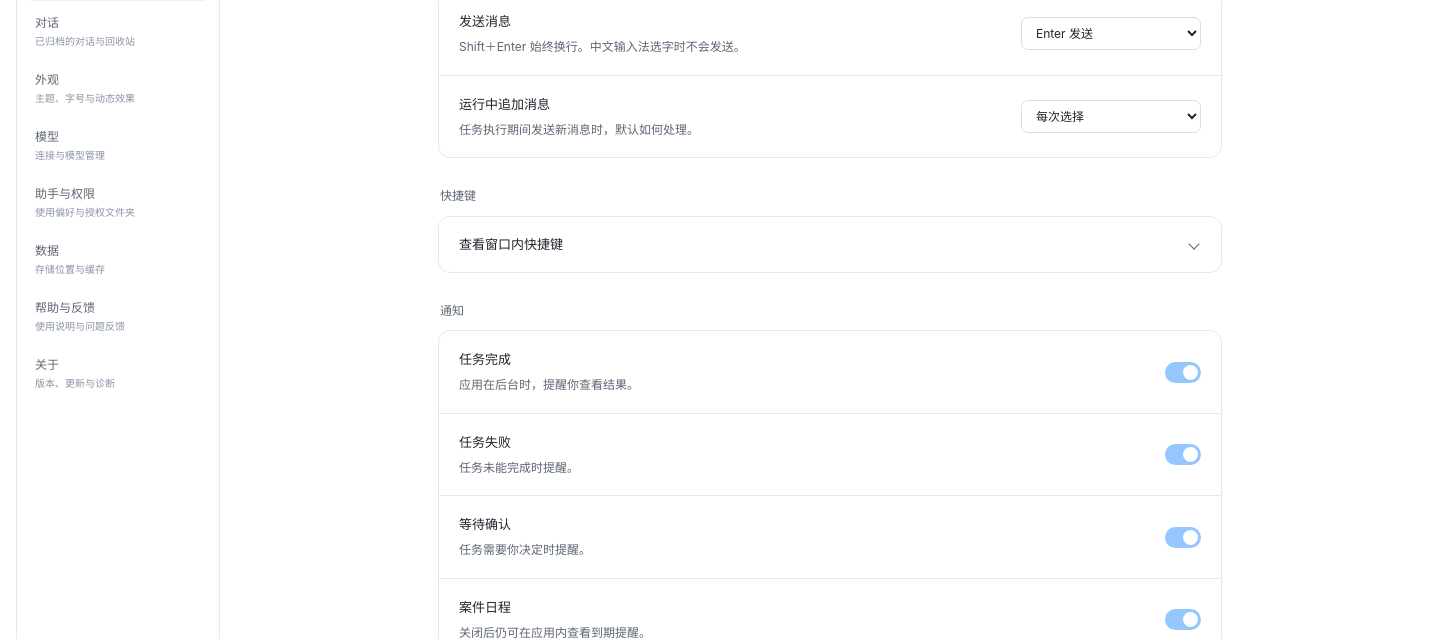
Test: out-of-range values are blocked before saving
Click the button "助手与权限 使用偏好与授权文件夹" at x=118, y=202, box [24, 174, 212, 229]
(page scrolled)
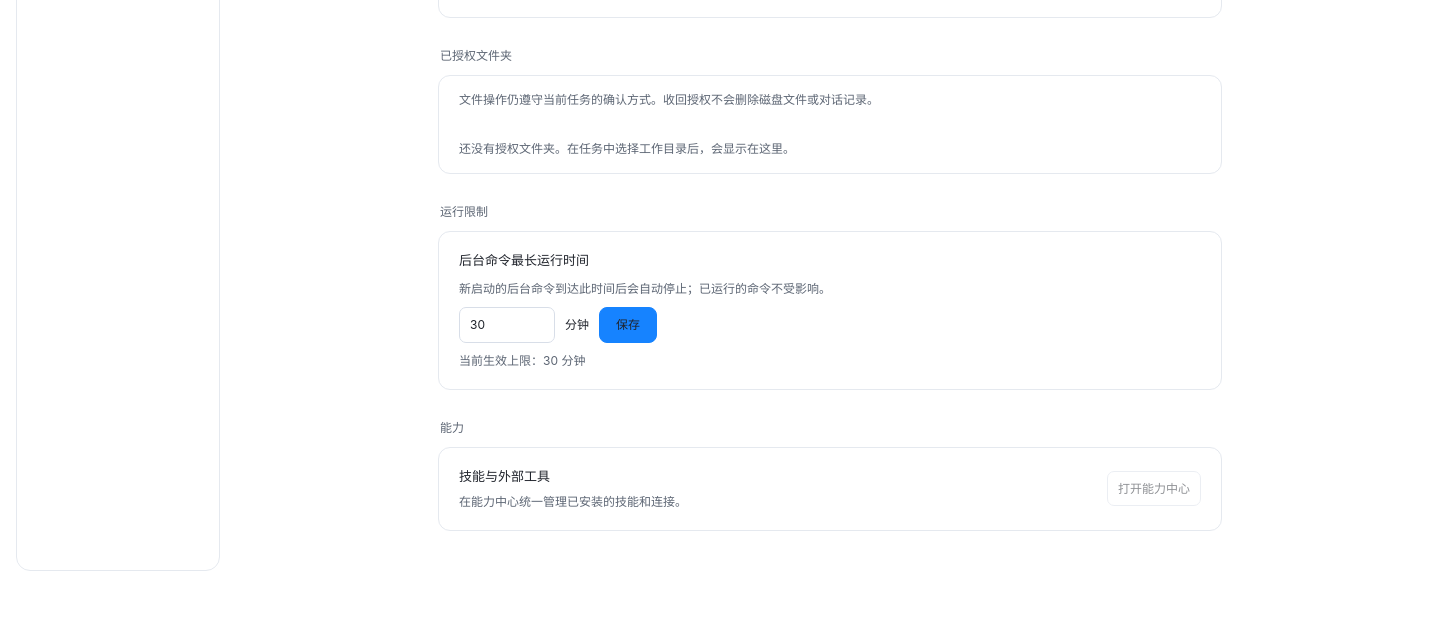
Expected: the number field named "后台命令最长运行时间" holds "30"
Replace the text in the number field named "后台命令最长运行时间" with "0" at x=507, y=325, box [459, 307, 555, 342]
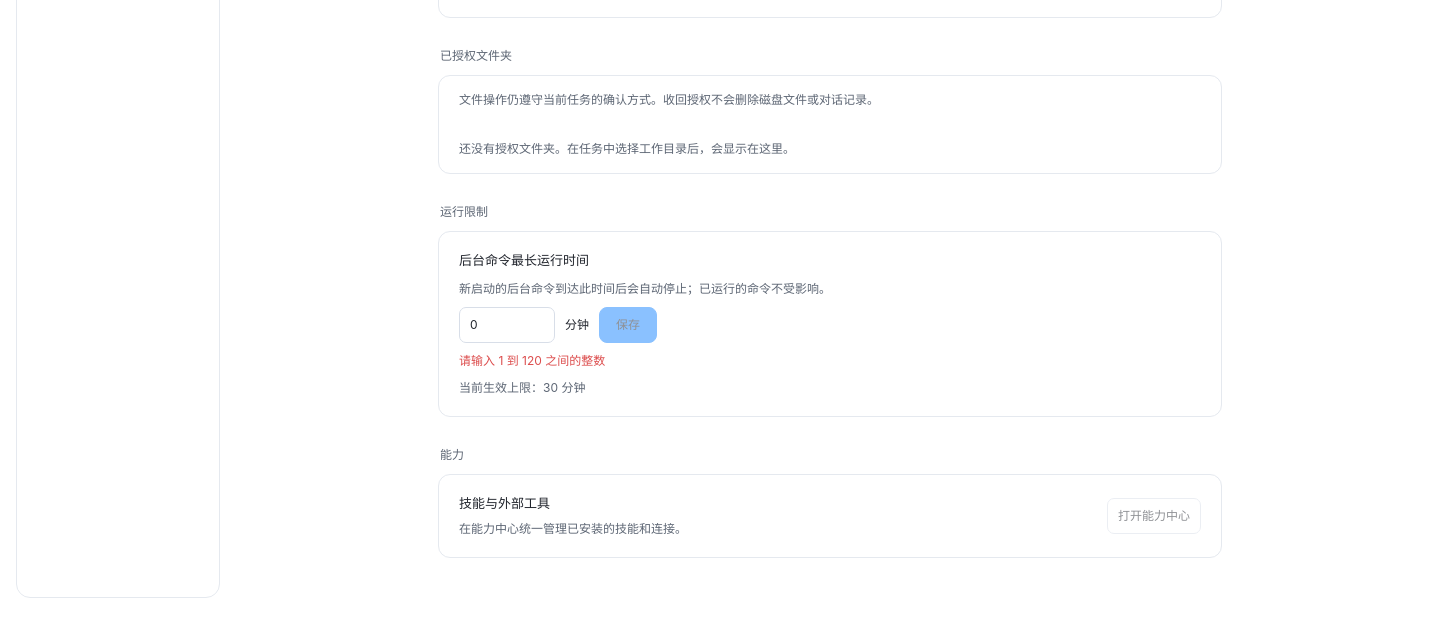
Expected: the text "请输入 1 到 120 之间的整数" is shown, [459, 352, 605, 368]
Expected: the button "保存" is disabled, [599, 307, 657, 342]
Replace the text in the number field named "后台命令最长运行时间" with "121" at x=507, y=325, box [459, 307, 555, 342]
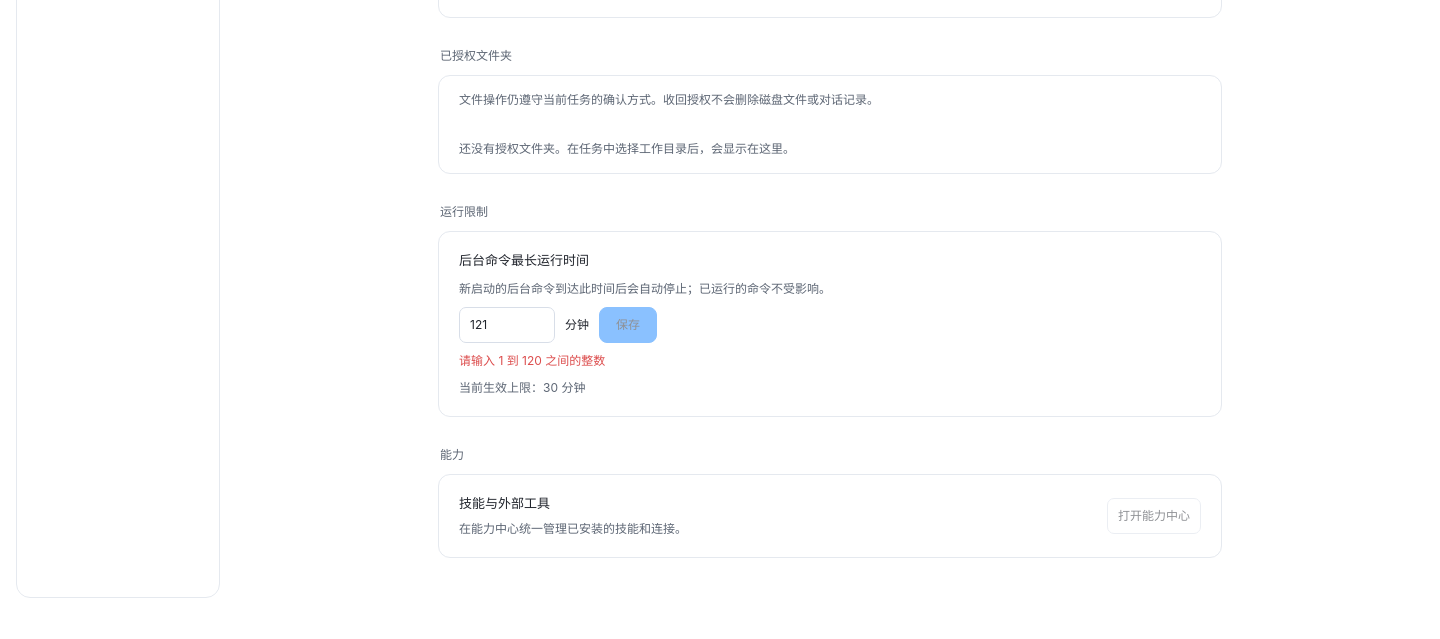
Expected: the text "请输入 1 到 120 之间的整数" is shown, [459, 352, 605, 368]
Expected: the button "保存" is disabled, [599, 307, 657, 342]
Replace the text in the number field named "后台命令最长运行时间" with "-5" at x=507, y=325, box [459, 307, 555, 342]
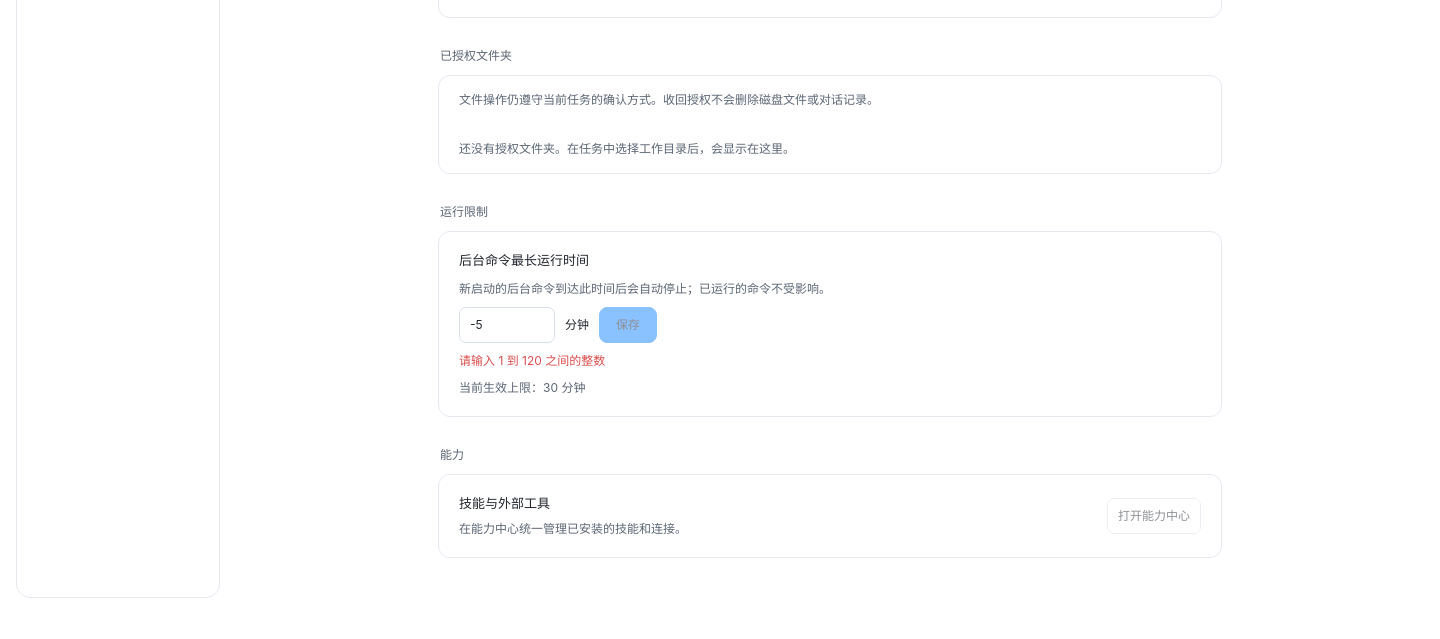
Expected: the text "请输入 1 到 120 之间的整数" is shown, [459, 352, 605, 368]
Expected: the button "保存" is disabled, [599, 307, 657, 342]
Replace the text in the number field named "后台命令最长运行时间" with "60" at x=507, y=325, box [459, 307, 555, 342]
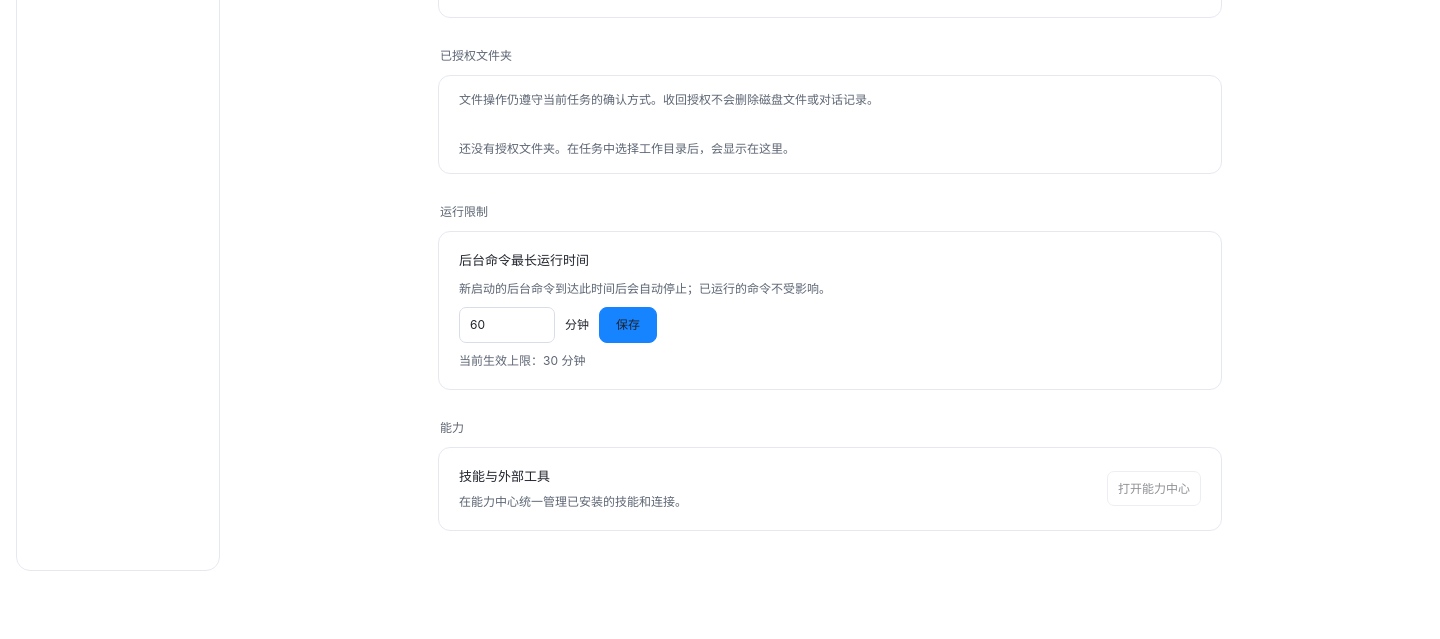
Expected: the text "请输入 1 到 120 之间的整数" is gone
Expected: the button "保存" is enabled, [599, 307, 657, 342]
